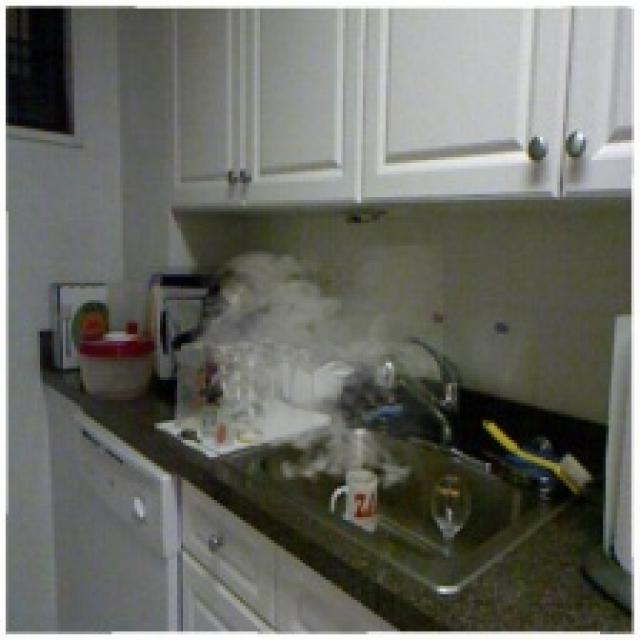smoke: (180, 243, 443, 497)
